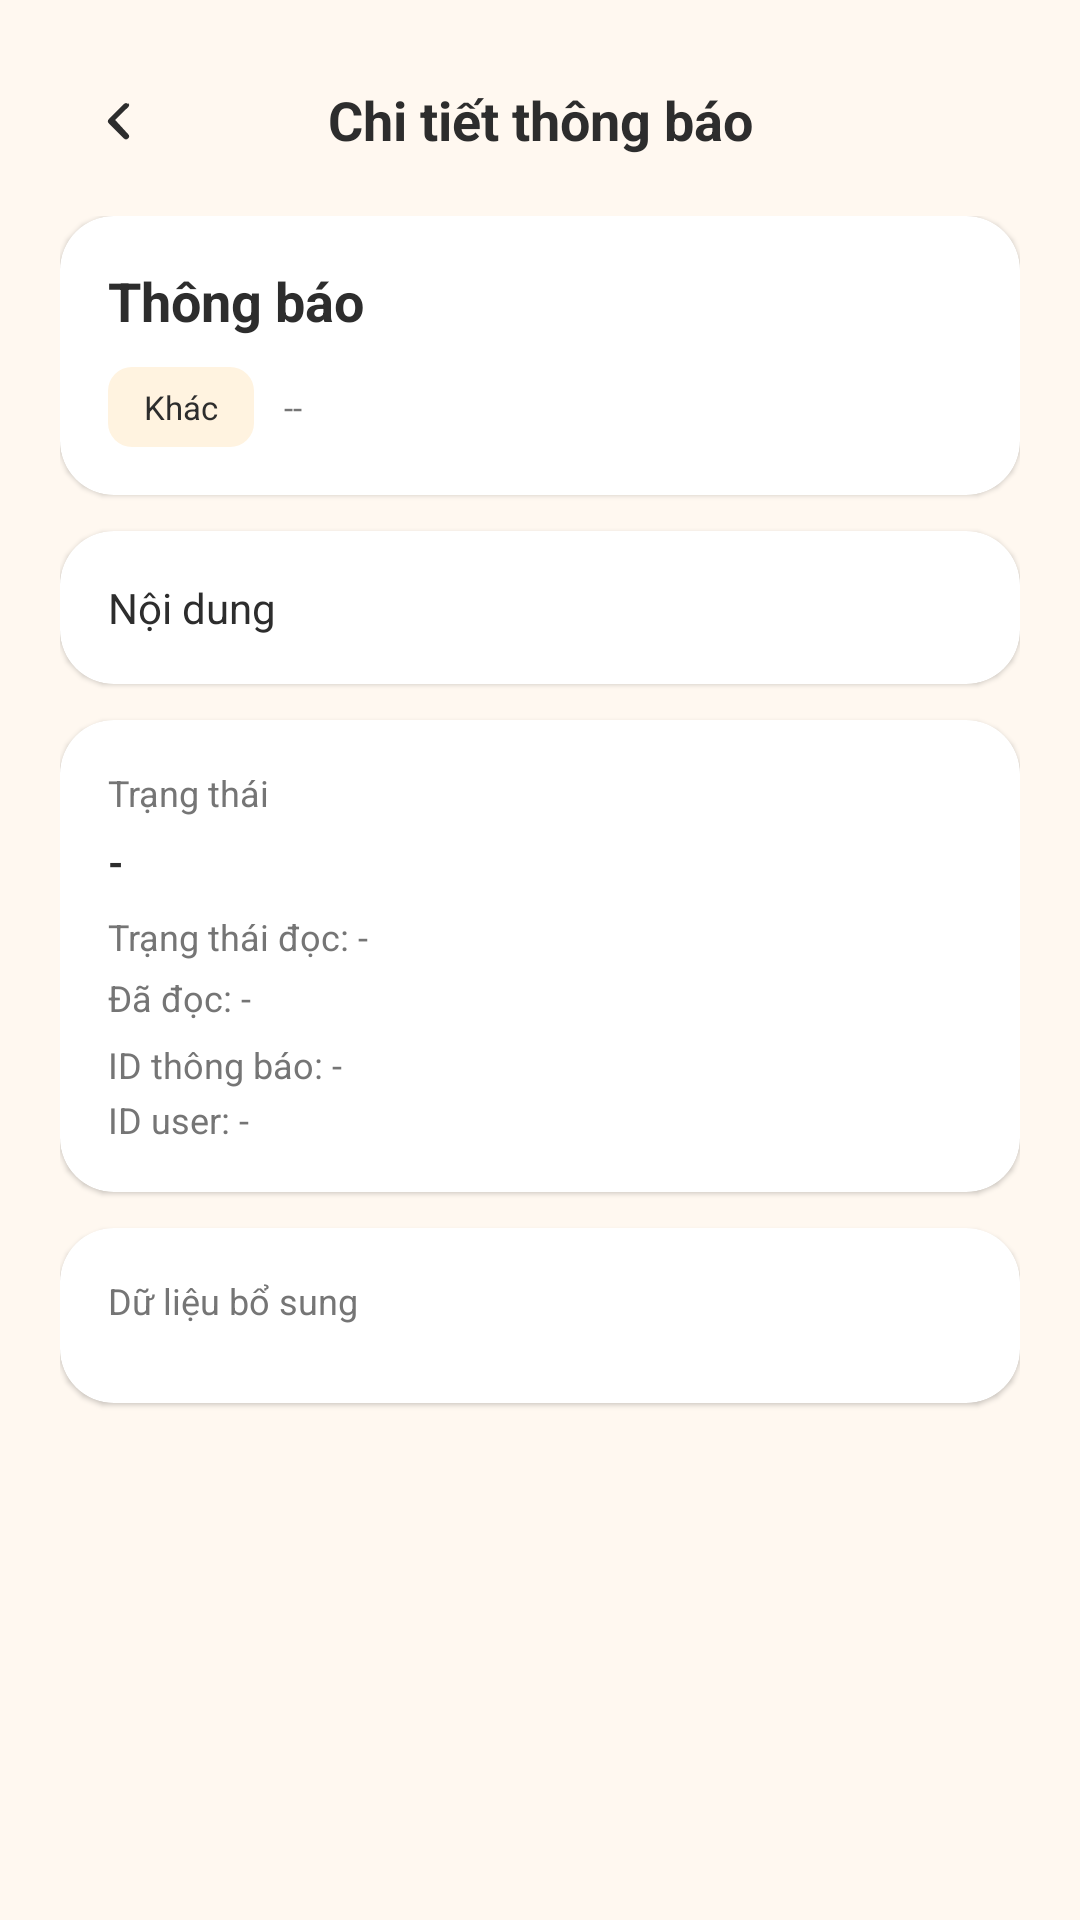

Locate icon controls on the screen. Image size 1080w x 1920h, boxes as (x1, y1, x2, y2).
chevron left: (107, 103, 130, 140)
